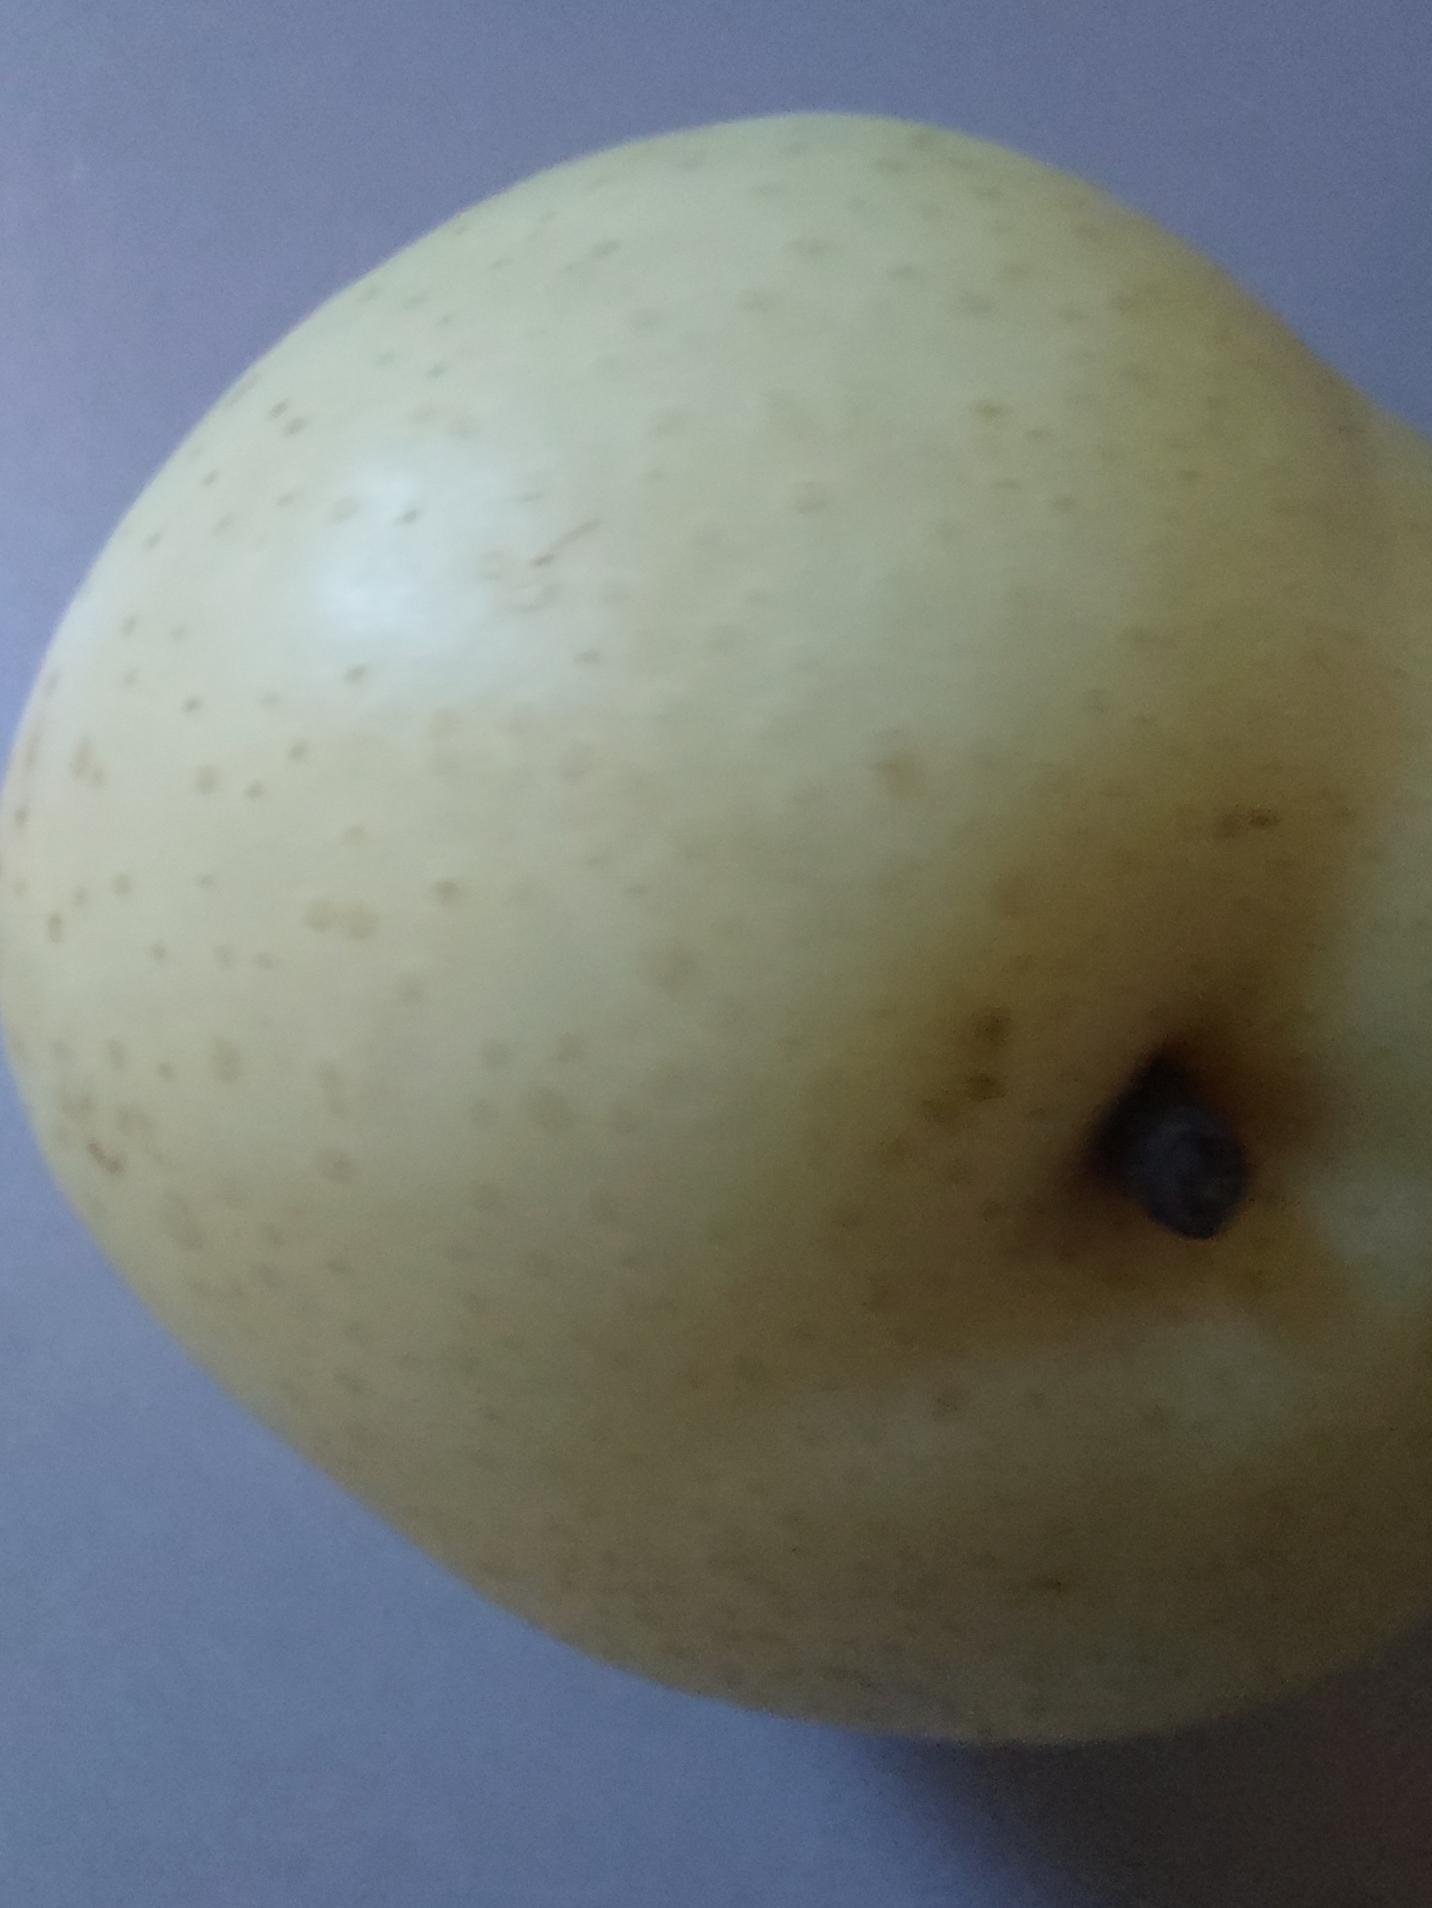Good Pear: (0, 92, 1432, 1791)
